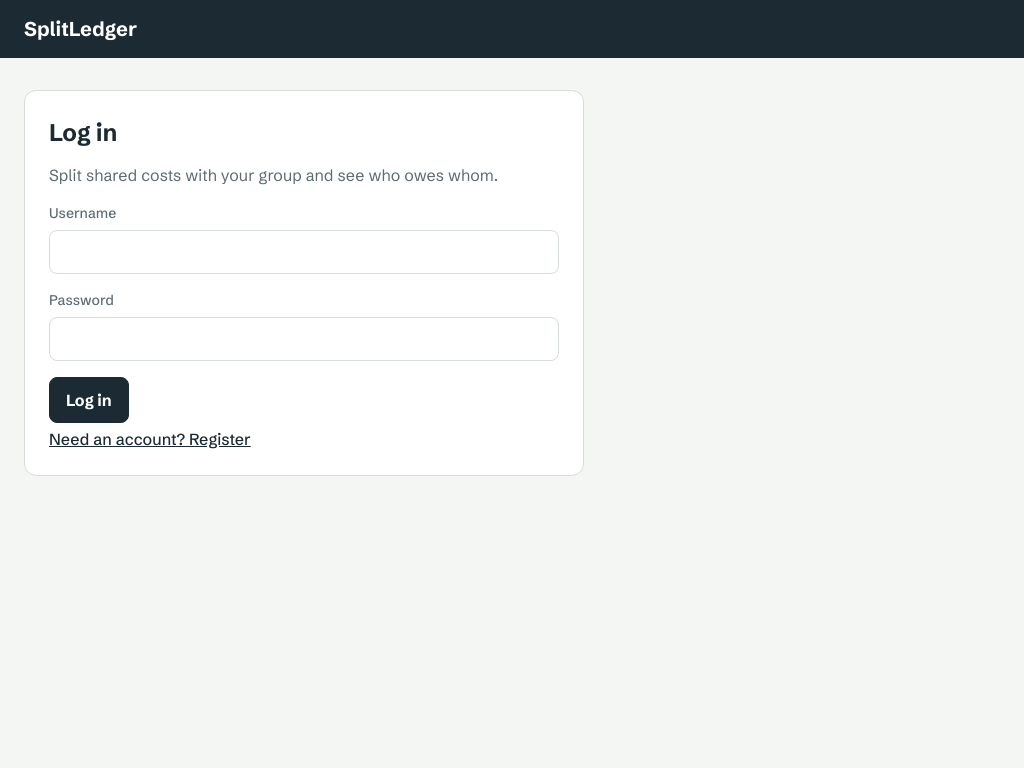
Test: LoginPage › shows the login error
Step 1. Type "alice" into the field labelled "Username" → x=304, y=252, box [49,230,559,274]
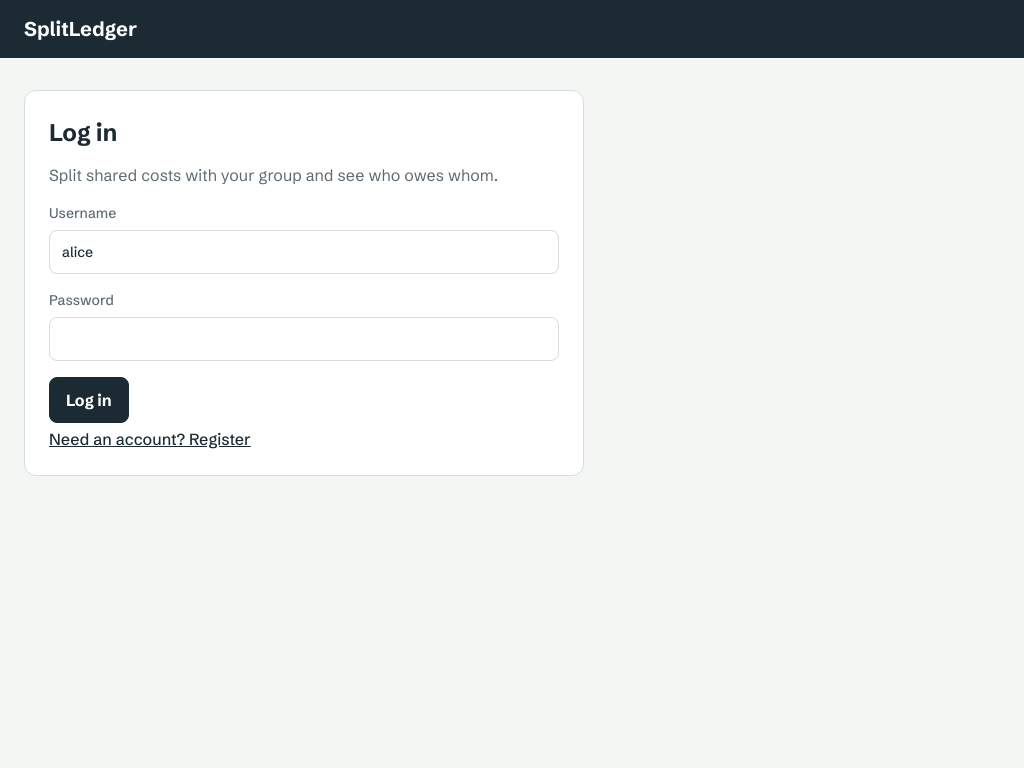
Step 2. Type "pw123456" into the password field labelled "Password" → x=304, y=339, box [49,317,559,361]
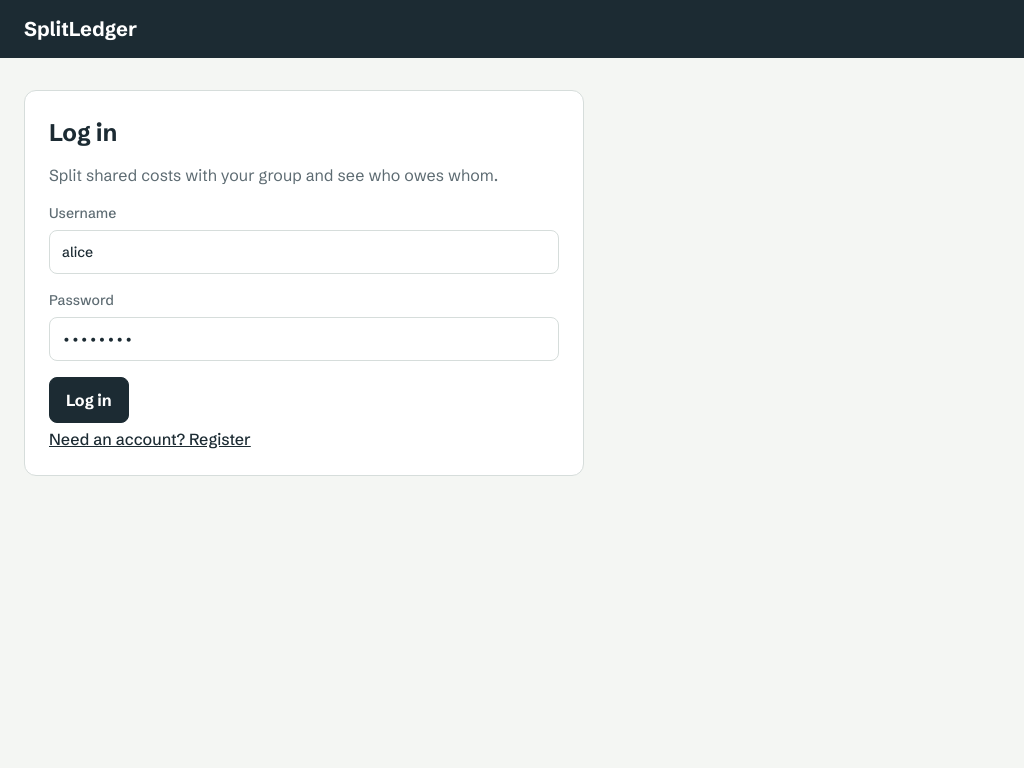
Step 3. Click the button "Log in" → x=89, y=400, box [49,377,129,423]
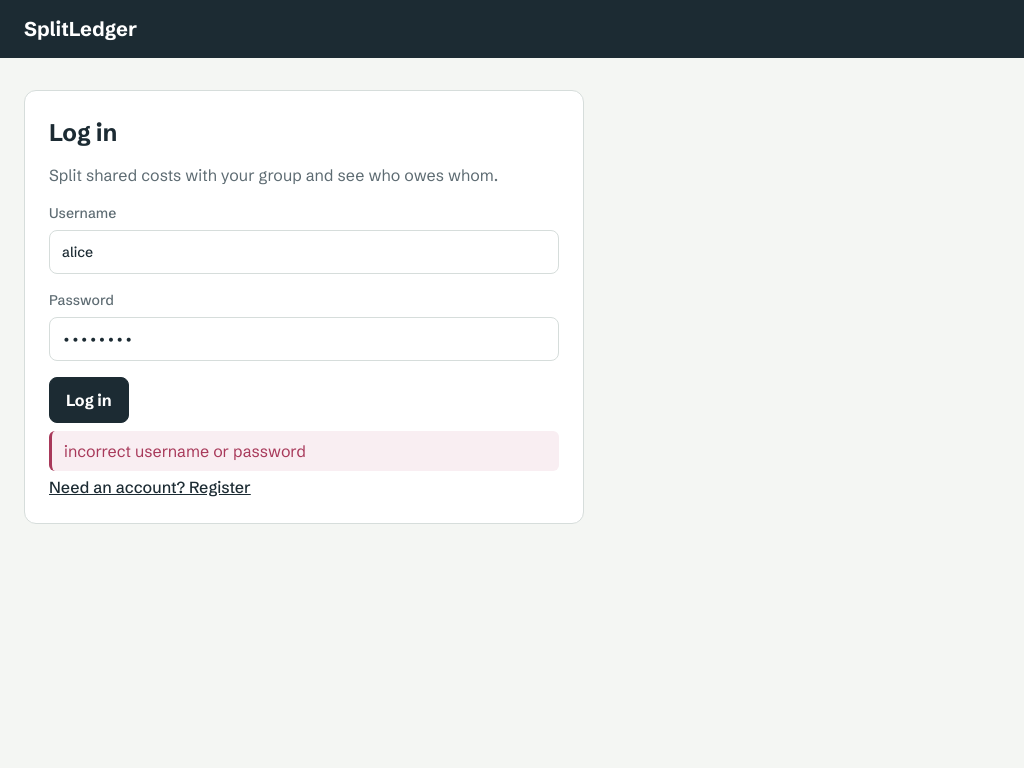
Now the message reads "incorrect username or password", box [64,441,306,461]
